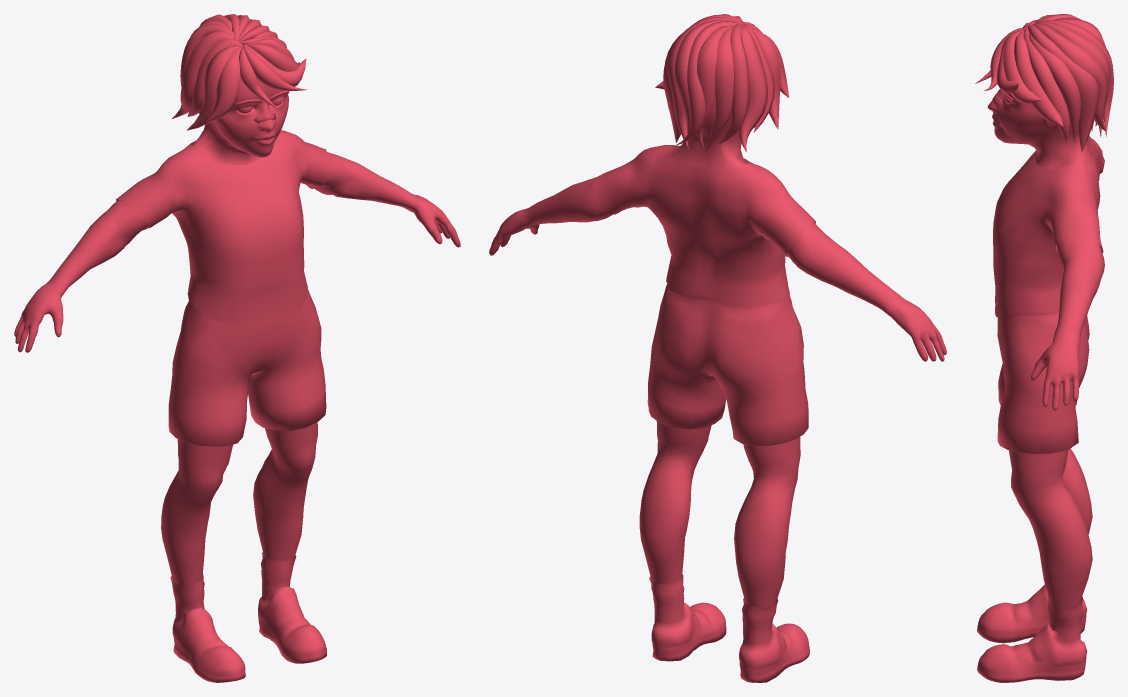
Rendered from KaszojadStandard.fbx.
The picture shows the model from 3 angles, left to right: view 1: azimuth 30°, elevation 25°; view 2: azimuth 150°, elevation 25°; view 3: azimuth 270°, elevation 25°; orthographic projection. The views are drawn at different scales.
Visible parts, largest first — view 1: Body_low, RetopoFlow.007, RetopoFlow.006, RetopoFlow.005, NurbsPath.002, NurbsPath.003; view 2: Body_low, RetopoFlow.007, RetopoFlow.006, NurbsPath.003, RetopoFlow.005, NurbsPath.002; view 3: Body_low, RetopoFlow.007, RetopoFlow.006, RetopoFlow.005, NurbsPath.003, NurbsPath.002.
Boxes of the visible parts, x1,y1,x2,y2 form: Body_low: (14,44,460,585); RetopoFlow.007: (116,130,332,327); RetopoFlow.006: (168,289,326,446); RetopoFlow.005: (170,552,326,682); NurbsPath.002: (172,31,306,130); NurbsPath.003: (180,14,286,113); Body_low: (489,97,946,607); RetopoFlow.007: (593,145,815,307); RetopoFlow.006: (647,284,808,445); NurbsPath.003: (663,14,749,151); RetopoFlow.005: (649,574,809,682); NurbsPath.002: (655,14,789,151); Body_low: (987,89,1104,607); RetopoFlow.007: (993,135,1103,319); RetopoFlow.006: (997,312,1089,454); RetopoFlow.005: (977,584,1087,682); NurbsPath.003: (1024,14,1113,152); NurbsPath.002: (975,14,1063,126).
Bounding box in the file's own units: 991 × 1348 × 268.
